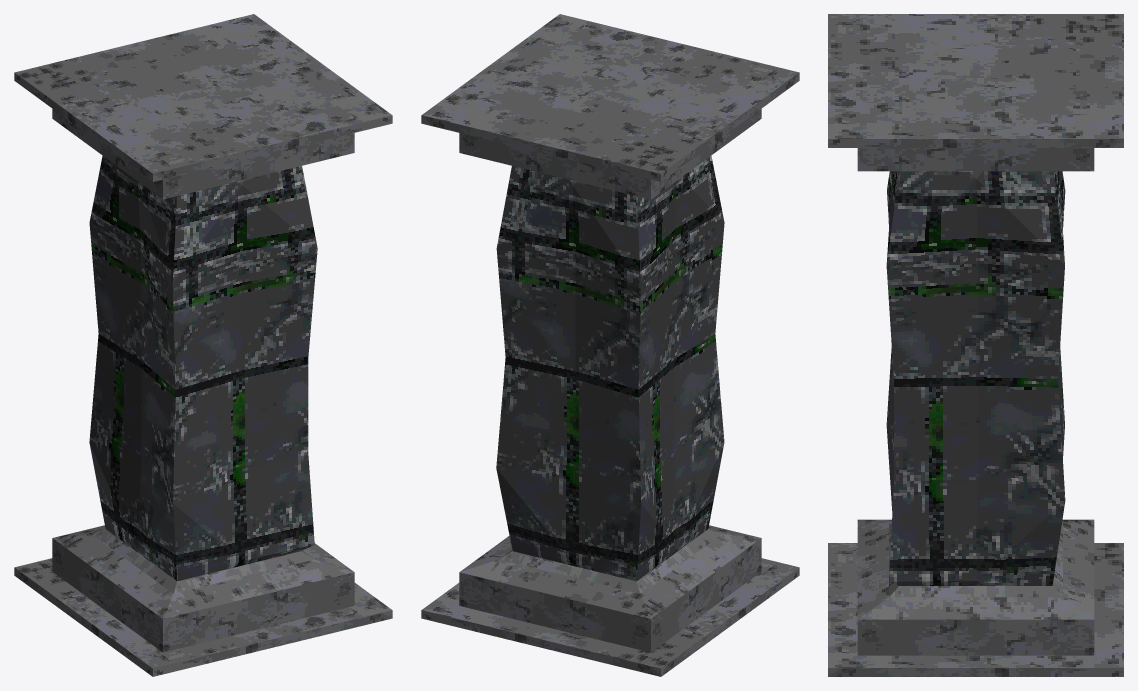
The model's file is pillar_03.gltf.
The picture shows the model from 3 angles, left to right: view 1: azimuth 30°, elevation 25°; view 2: azimuth 150°, elevation 25°; view 3: azimuth 270°, elevation 25°; orthographic projection. The views are drawn at different scales.
Parts seen in each view (by area): view 1: pillar_03; view 2: pillar_03; view 3: pillar_03.
Boxes of the visible parts, x1=… form: pillar_03: x1=14, y1=14, x2=392, y2=676; pillar_03: x1=421, y1=14, x2=799, y2=676; pillar_03: x1=828, y1=14, x2=1123, y2=676.
Size of the model in its own units: 1.5 by 3.01 by 1.5.
Materials: 1 (1 with a texture image).
